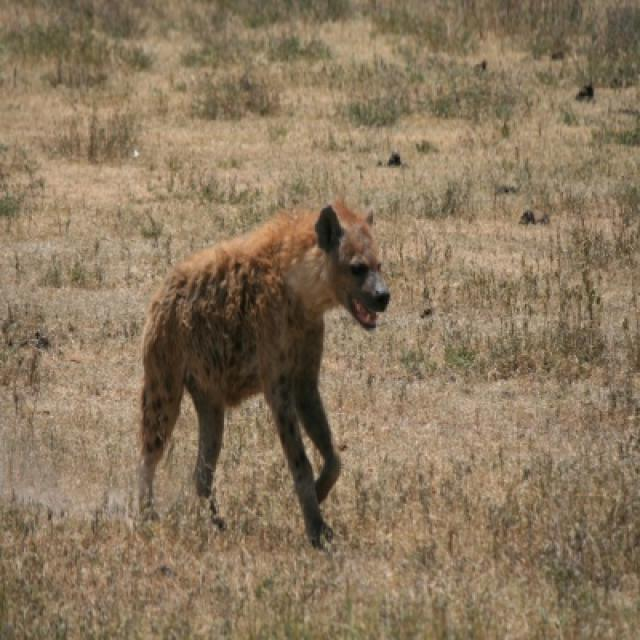hyena: (138, 198, 390, 550)
